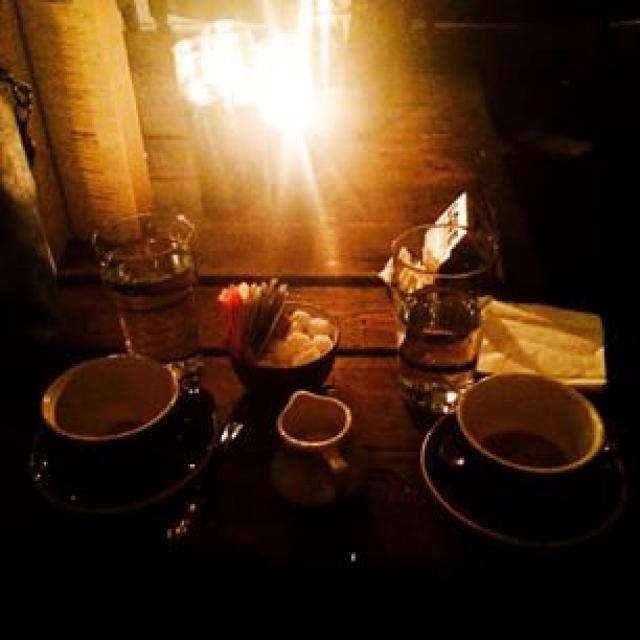Cup: (420, 340, 631, 568), (366, 220, 498, 424), (57, 352, 190, 502), (98, 198, 228, 351), (254, 395, 370, 506)
Table: (0, 219, 640, 640)
